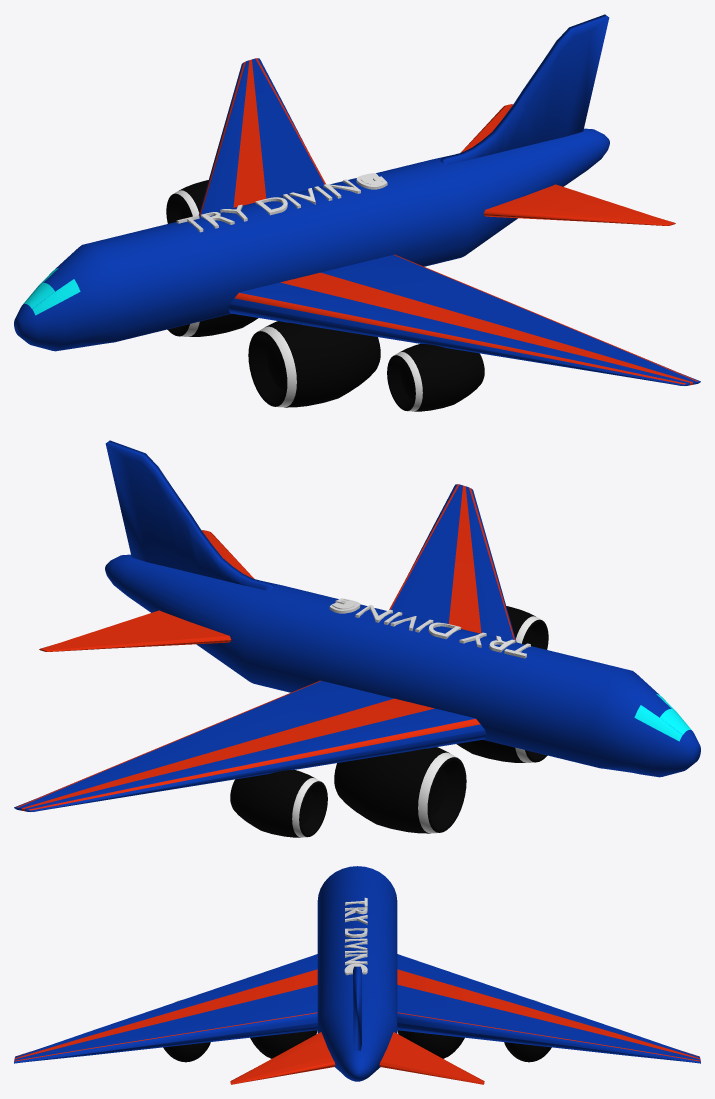
File: aeroplane 3.fbx
The picture shows the model from 3 angles, top to bottom: view 1: azimuth 30°, elevation 25°; view 2: azimuth 150°, elevation 25°; view 3: azimuth 270°, elevation 25°; orthographic projection. The views are drawn at different scales.
Parts seen in each view (by area): view 1: Cylinder, Cube.001, Cube.003, Cylinder.001, Cube, Cylinder.002, Cube.002, Text.001, Cylinder.004, Cylinder.003; view 2: Cylinder, Cube.003, Cube.001, Cylinder.004, Cube, Cylinder.003, Cube.004, Text.001, Cylinder.001, Cylinder.002; view 3: Cylinder, Cube.001, Cube.003, Cube.002, Cube.004, Text.001, Cylinder.001, Cylinder.004, Cube, Cylinder.002, Cylinder.003.
Boxes of the visible parts, left/top/right/bottom form: Cylinder: left=14, top=128, right=609, bottom=351; Cube.001: left=228, top=254, right=700, bottom=385; Cube.003: left=198, top=58, right=325, bottom=215; Cylinder.001: left=248, top=321, right=380, bottom=407; Cube: left=440, top=14, right=609, bottom=164; Cylinder.002: left=387, top=344, right=484, bottom=411; Cube.002: left=483, top=184, right=675, bottom=225; Text.001: left=176, top=173, right=387, bottom=232; Cylinder.004: left=167, top=313, right=258, bottom=336; Cylinder.003: left=166, top=180, right=208, bottom=223; Cylinder: left=105, top=554, right=700, bottom=777; Cube.003: left=14, top=680, right=486, bottom=811; Cube.001: left=389, top=484, right=516, bottom=642; Cylinder.004: left=334, top=747, right=466, bottom=833; Cube: left=105, top=440, right=274, bottom=590; Cylinder.003: left=230, top=770, right=327, bottom=837; Cube.004: left=39, top=610, right=231, bottom=651; Text.001: left=329, top=598, right=530, bottom=658; Cylinder.001: left=456, top=739, right=547, bottom=762; Cylinder.002: left=506, top=606, right=548, bottom=649; Cylinder: left=317, top=866, right=397, bottom=1081; Cube.001: left=14, top=954, right=317, bottom=1063; Cube.003: left=397, top=954, right=700, bottom=1063; Cube.002: left=230, top=1032, right=335, bottom=1084; Cube.004: left=379, top=1032, right=484, bottom=1084; Text.001: left=344, top=897, right=367, bottom=975; Cylinder.001: left=250, top=1030, right=317, bottom=1058; Cylinder.004: left=397, top=1030, right=464, bottom=1058; Cube: left=353, top=966, right=361, bottom=1050; Cylinder.002: left=163, top=999, right=210, bottom=1062; Cylinder.003: left=504, top=999, right=551, bottom=1062.
Size of the model in its own units: 2840 by 1220 by 3684.
